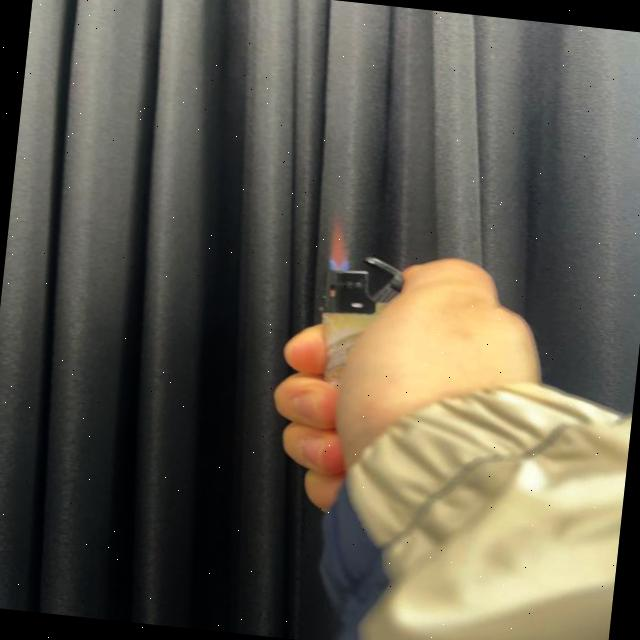fire: (322, 206, 358, 273)
